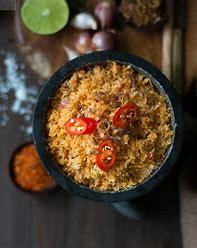Pol Sambol: (46, 46, 180, 203)
